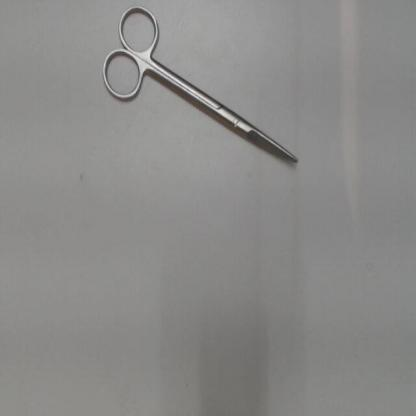Curved Mayo Scissors: (96, 2, 306, 173)
